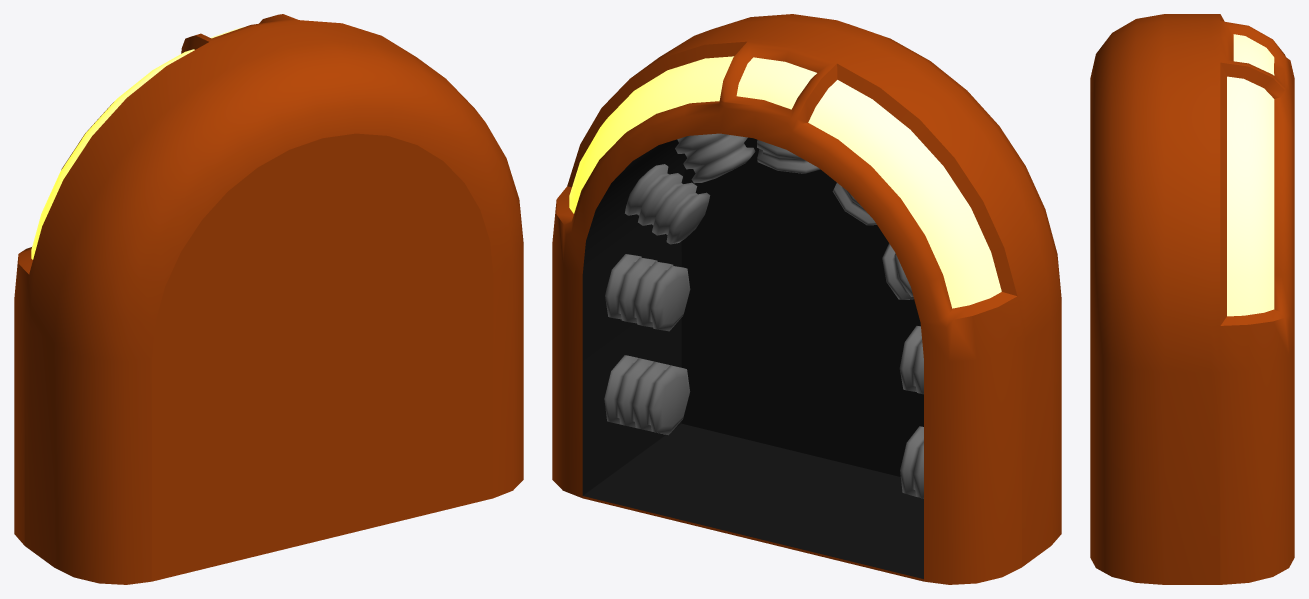
The model's file is PH_mesh_Spaceship_DoorContour.fbx.
3 views of the same model, side by side, from view 1: azimuth 30°, elevation 25°; view 2: azimuth 150°, elevation 25°; view 3: azimuth 270°, elevation 25° (orthographic). The views are drawn at different scales.
Parts seen in each view (by area): view 1: mesh_Spaceship_Door_Arc; view 2: mesh_Spaceship_Door_Arc; view 3: mesh_Spaceship_Door_Arc.
Part boxes in pixels (x1,y1,x2,y2): mesh_Spaceship_Door_Arc: (14, 14, 523, 584); mesh_Spaceship_Door_Arc: (552, 14, 1061, 584); mesh_Spaceship_Door_Arc: (1090, 14, 1294, 584).
Bounding box in the file's own units: 4.07 × 3.92 × 1.65.
